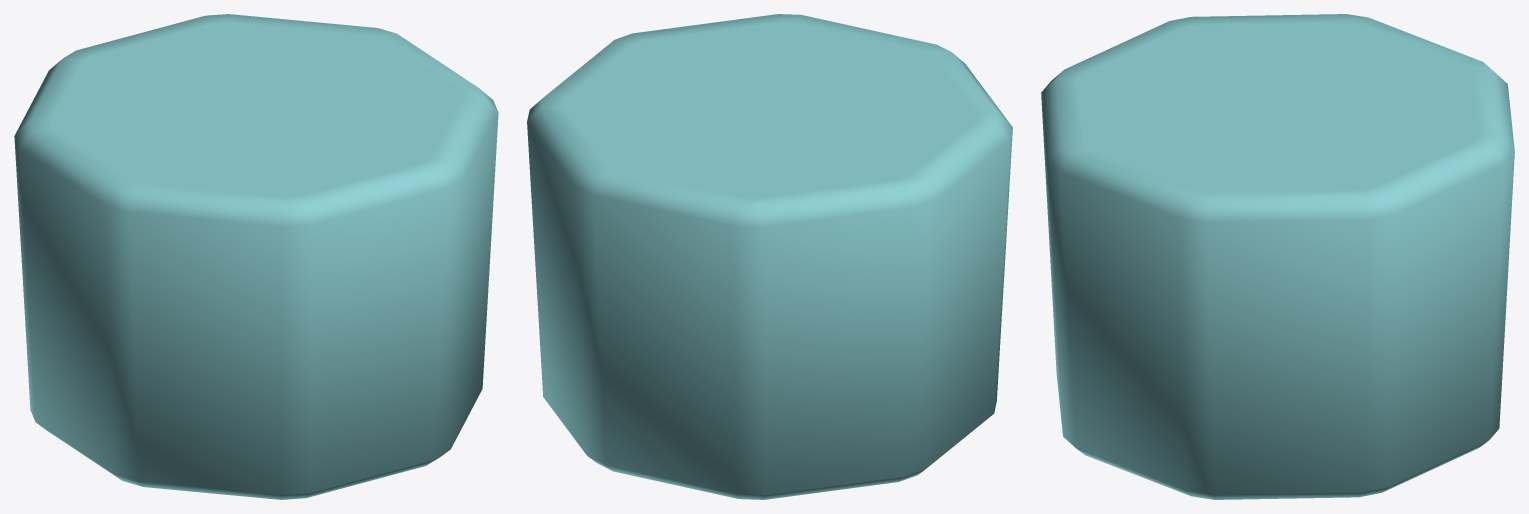
Rendered from plateforme_neige_01.fbx.
3 views of the same model, side by side, from view 1: azimuth 30°, elevation 25°; view 2: azimuth 150°, elevation 25°; view 3: azimuth 270°, elevation 25° (orthographic).
Parts seen in each view (by area): view 1: Sphere027; view 2: Sphere027; view 3: Sphere027.
Boxes of the visible parts, x1,y1,x2,y2 form: Sphere027: (14,14,498,499); Sphere027: (527,14,1012,499); Sphere027: (1041,14,1514,499).
Bounding box in the file's own units: 473 × 335 × 473.
